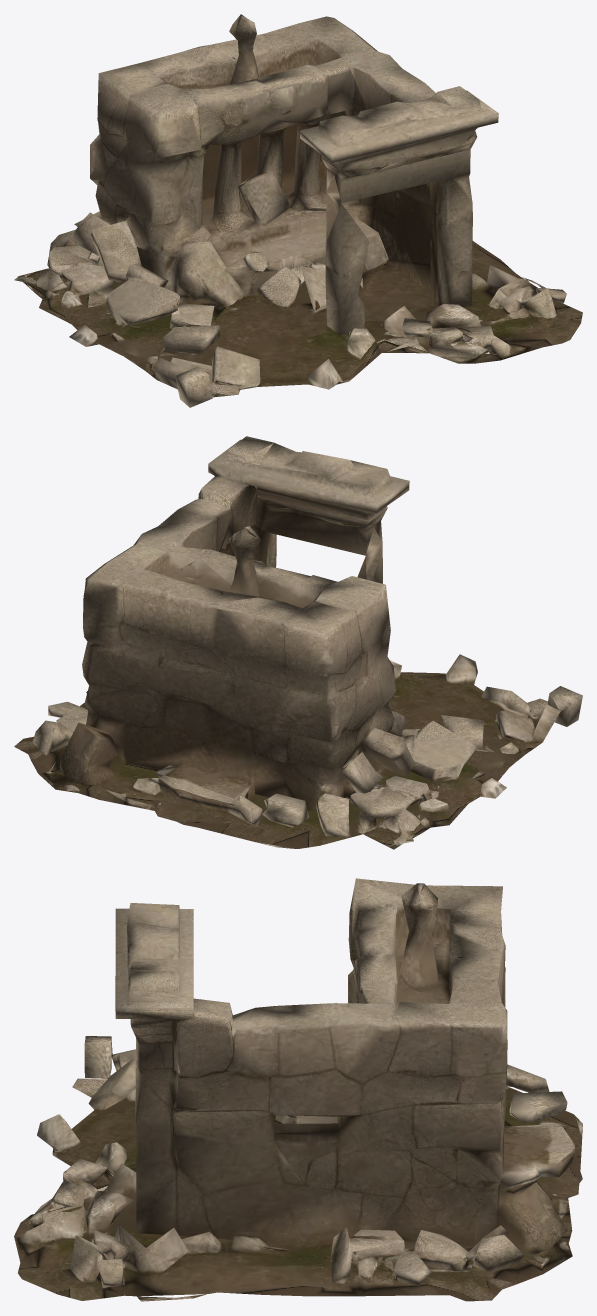
File: rubble.glb
3 renders of one model, top to bottom at view 1: azimuth 30°, elevation 25°; view 2: azimuth 150°, elevation 25°; view 3: azimuth 270°, elevation 25°, orthographic. The views are drawn at different scales.
Size of the model in its own units: 1.89 by 1.08 by 1.86.
Materials: 1 (1 with a texture image).
